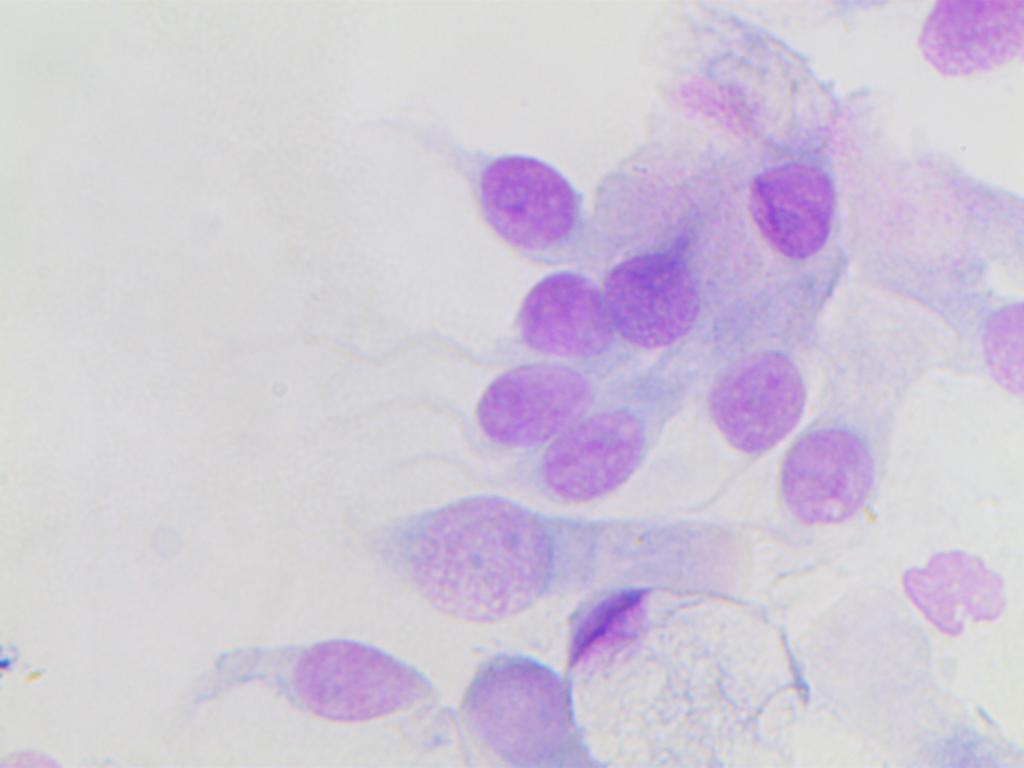artifact: (894, 549, 1016, 639)
epithelial: (389, 483, 567, 633), (436, 125, 608, 265), (713, 136, 885, 276), (206, 623, 433, 718), (691, 351, 809, 458), (605, 231, 710, 351), (486, 268, 612, 355), (535, 411, 661, 498), (780, 428, 882, 528), (468, 360, 593, 438), (913, 0, 1024, 81)
goblet_cell: (551, 556, 794, 768)
